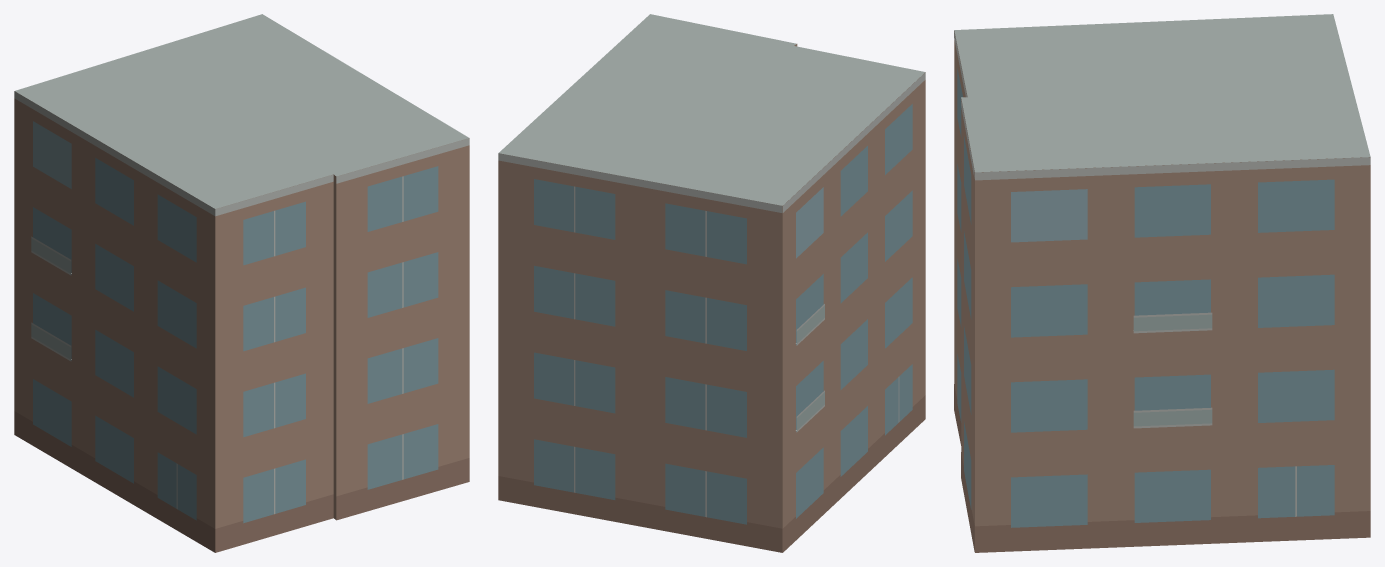
File: survey-upis-32630587.glb
3 views of the same model, side by side, from view 1: azimuth 30°, elevation 25°; view 2: azimuth 150°, elevation 25°; view 3: azimuth 270°, elevation 25° (orthographic). The views are drawn at different scales.
Parts seen in each view (by area): view 1: survey-upis-32630587.tmp; view 2: survey-upis-32630587.tmp; view 3: survey-upis-32630587.tmp.
Part boxes in pixels (x1,y1,x2,y2): survey-upis-32630587.tmp: (14,14,469,552); survey-upis-32630587.tmp: (498,14,925,552); survey-upis-32630587.tmp: (954,14,1370,552).
Bounding box in the file's own units: 10.27 × 11.5 × 11.42.
